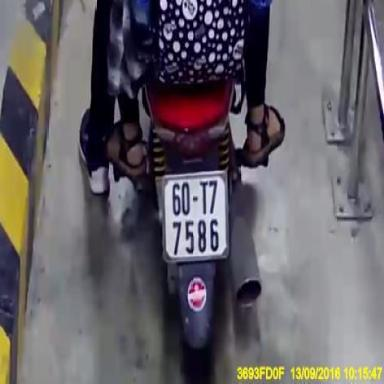License_Plate: (154, 165, 236, 267)
